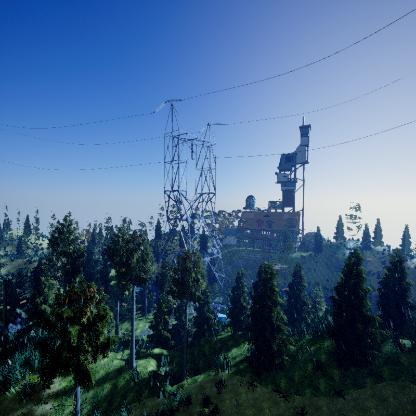tower: (154, 96, 231, 319)
